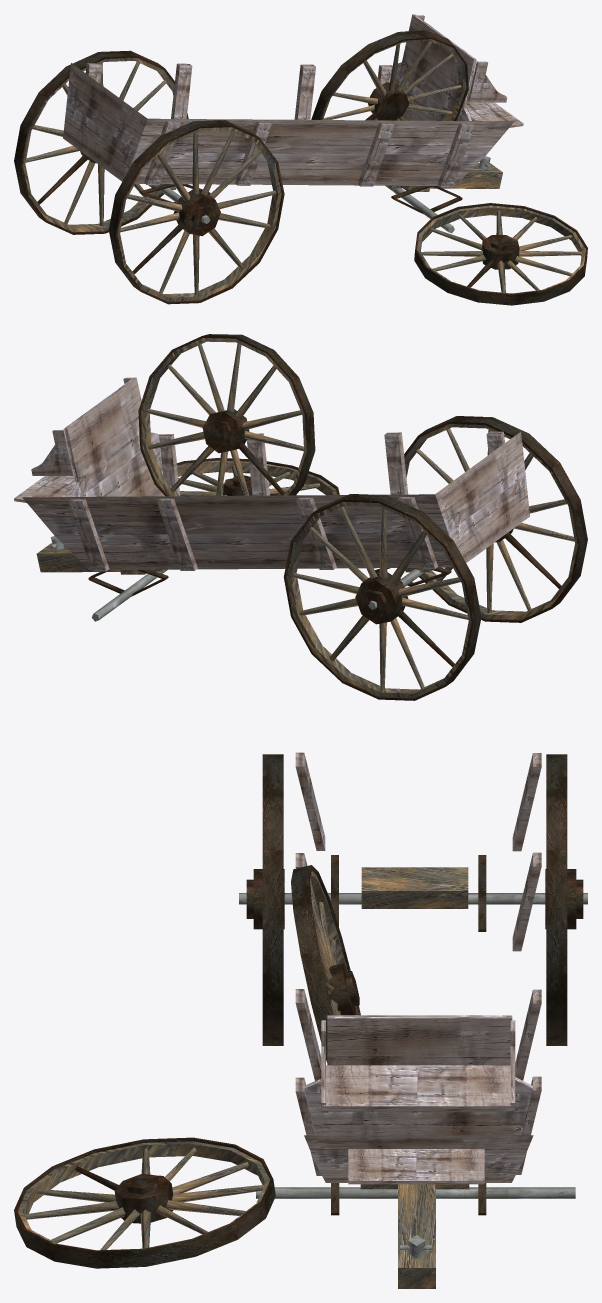
Rendered from oldwagon.glb.
3 renders of one model, top to bottom at view 1: azimuth 30°, elevation 25°; view 2: azimuth 150°, elevation 25°; view 3: azimuth 270°, elevation 25°, orthographic. The views are drawn at different scales.
Visible parts, largest first — view 1: $ColladaAutoName$_1; view 2: $ColladaAutoName$_1; view 3: $ColladaAutoName$_1.
Part boxes in pixels (box(x1,y1,x2,y2)): $ColladaAutoName$_1: box(14, 14, 587, 305); $ColladaAutoName$_1: box(14, 334, 587, 700); $ColladaAutoName$_1: box(14, 752, 587, 1288).
Size of the model in its own units: 4.59 by 2.12 by 3.49.
4 materials, 4 textured.
